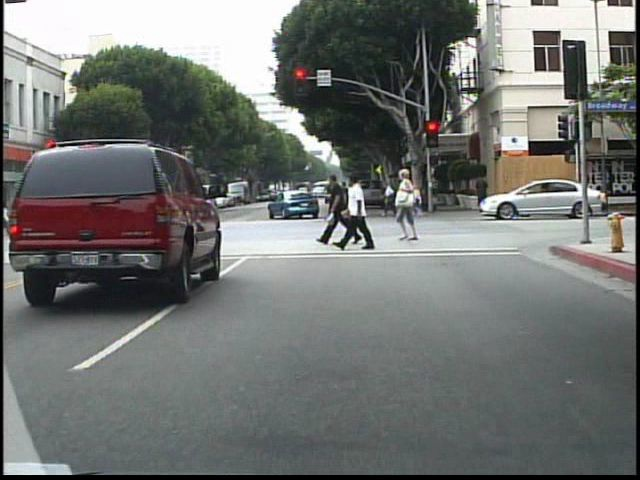person: (340, 171, 382, 252), (394, 168, 425, 245), (328, 169, 353, 250), (342, 174, 363, 221), (148, 184, 164, 232), (127, 186, 144, 230), (472, 169, 491, 208), (333, 180, 352, 219), (382, 178, 396, 220), (3, 199, 18, 236), (329, 176, 338, 223), (4, 197, 11, 239)
